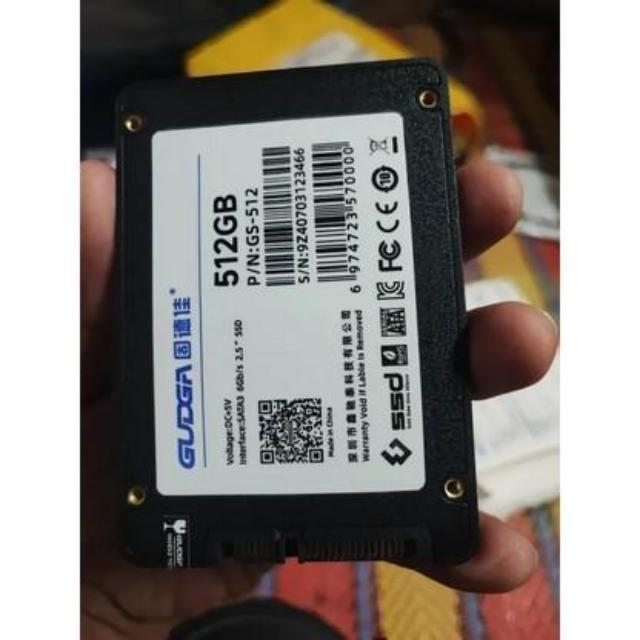DISK: (111, 47, 482, 575)
